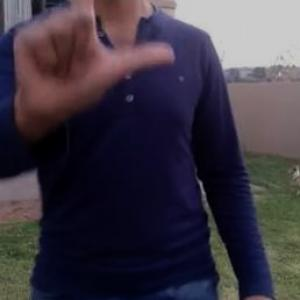land_hand: (8, 0, 182, 135)
